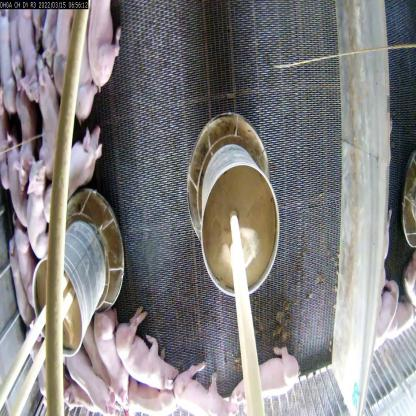Pig: (43, 131, 106, 229), (118, 310, 179, 394), (64, 10, 98, 140), (34, 56, 64, 199), (236, 350, 298, 414), (8, 206, 42, 311), (95, 306, 134, 390), (88, 0, 123, 91), (26, 164, 54, 275), (174, 359, 226, 415), (56, 365, 111, 415), (5, 142, 28, 236), (16, 93, 34, 183)
